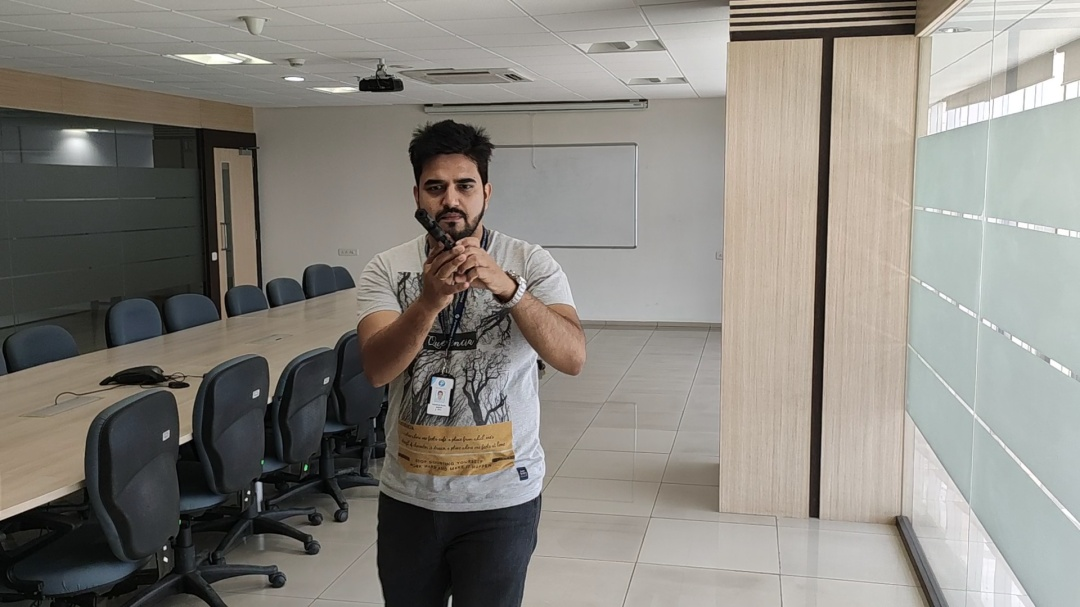gun: (415, 209, 456, 248)
